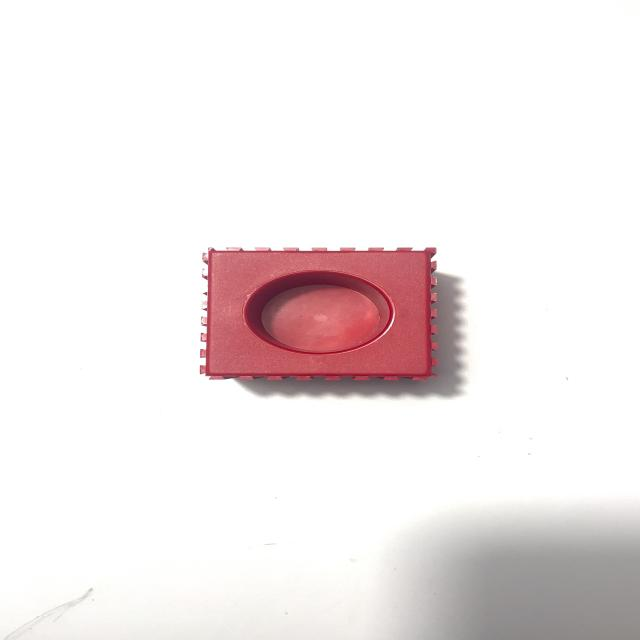Empty_Slot: (200, 248, 436, 380)
